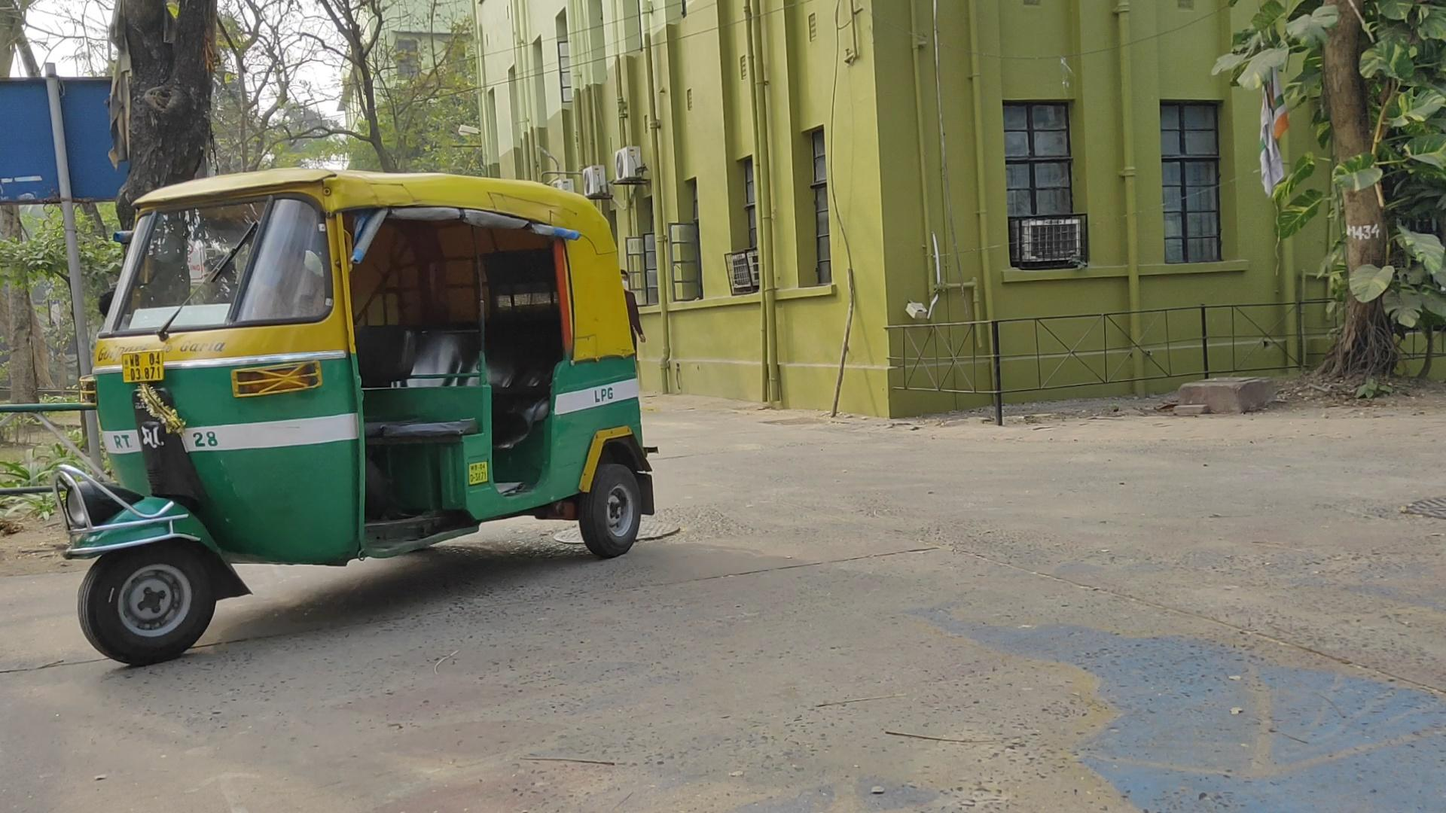Auto: (53, 164, 657, 669)
